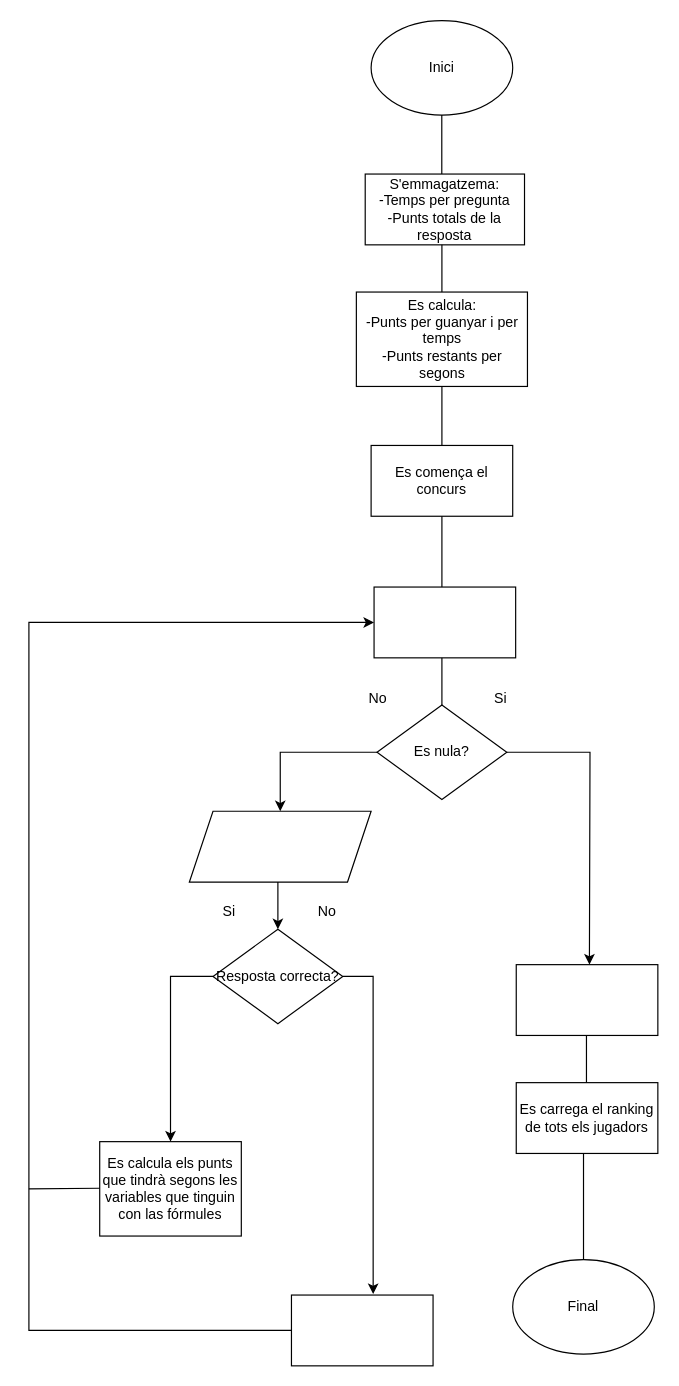
Some shapes in this 679 by 1386 pixel diagram are drawn without their labels. The centre of each missing label's shape, as x and y in pixels:
"Es sumen tots els punts del jugador" goes at (x=586, y=999).
"Input: Jugador escull la resposta" goes at (x=279, y=846).
"No es sumen punts" goes at (x=361, y=1330).
"S`agafa una pregunta" goes at (x=444, y=622).
